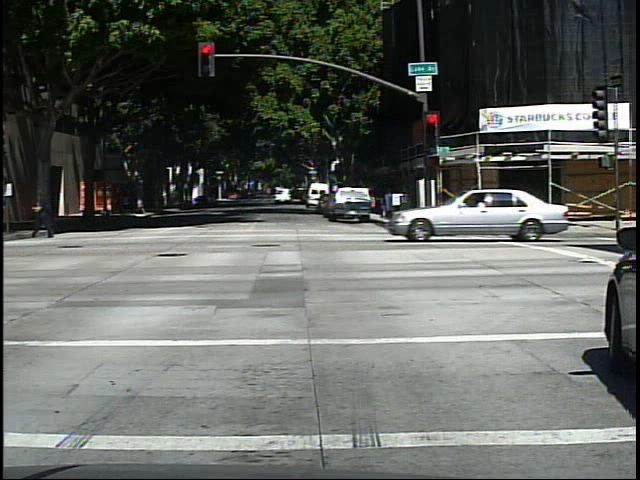person: (31, 189, 60, 241)
